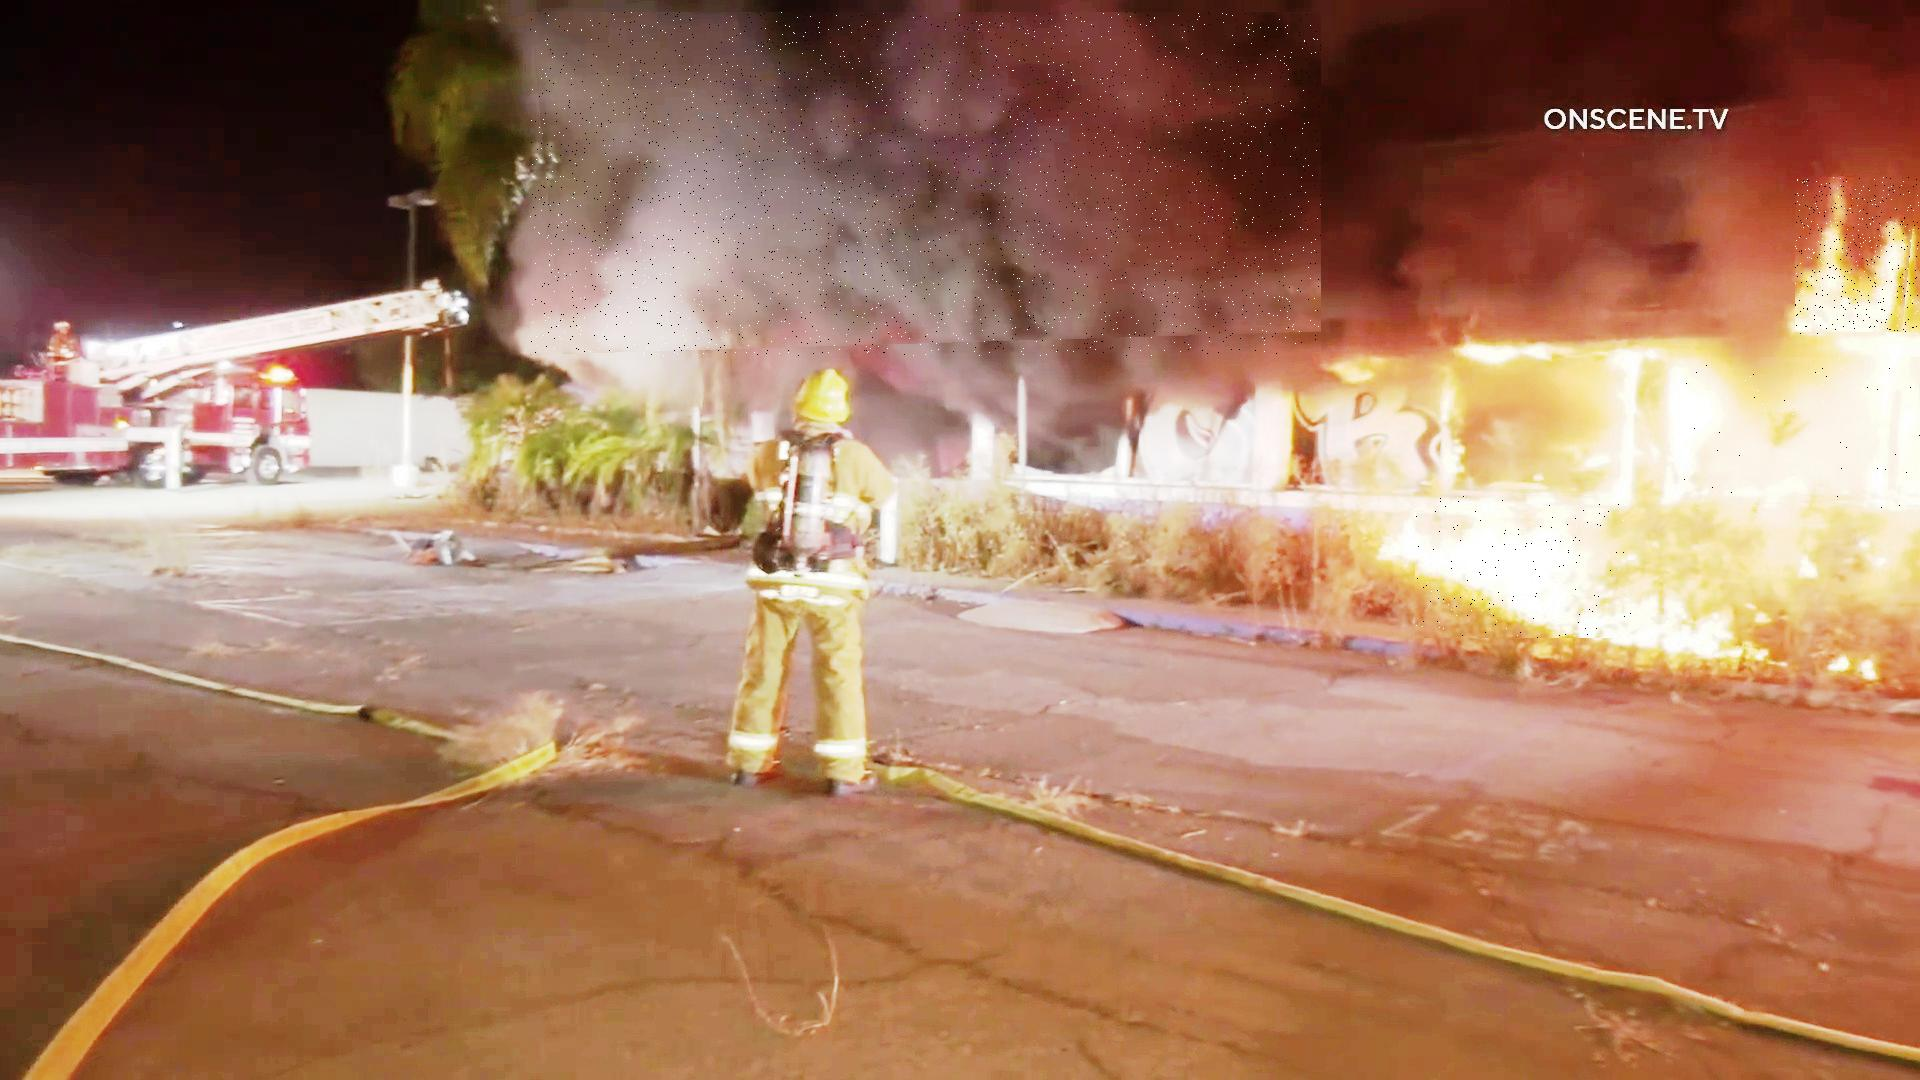fire: (530, 13, 1321, 357), (1680, 357, 1920, 508), (1415, 493, 1631, 638), (1796, 178, 1920, 335)
